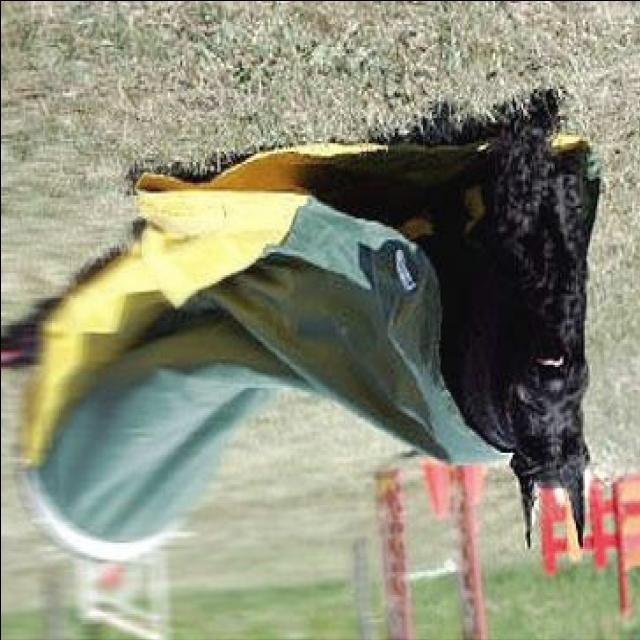standard_schnauzer: (436, 86, 602, 548)
